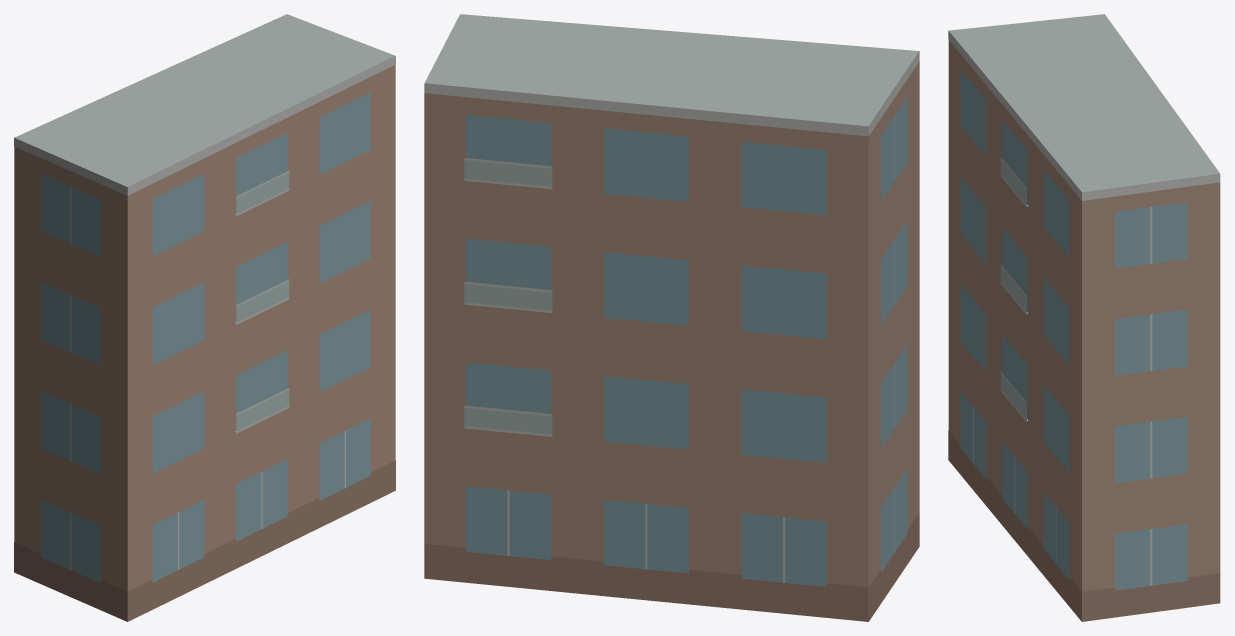
Rendered from survey-upis-32927182.glb.
The picture shows the model from 3 angles, left to right: view 1: azimuth 30°, elevation 25°; view 2: azimuth 150°, elevation 25°; view 3: azimuth 270°, elevation 25°; orthographic projection. The views are drawn at different scales.
Parts seen in each view (by area): view 1: survey-upis-32927182.tmp; view 2: survey-upis-32927182.tmp; view 3: survey-upis-32927182.tmp.
Boxes of the visible parts, <box> form: survey-upis-32927182.tmp: <box>14,14,395,621</box>; survey-upis-32927182.tmp: <box>424,14,919,621</box>; survey-upis-32927182.tmp: <box>948,14,1220,621</box>.
Bounding box in the file's own units: 10.88 × 12.2 × 7.01.
